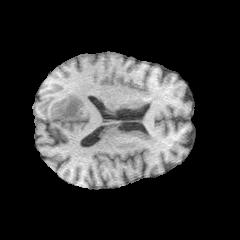glioma: (39, 94, 83, 121)
